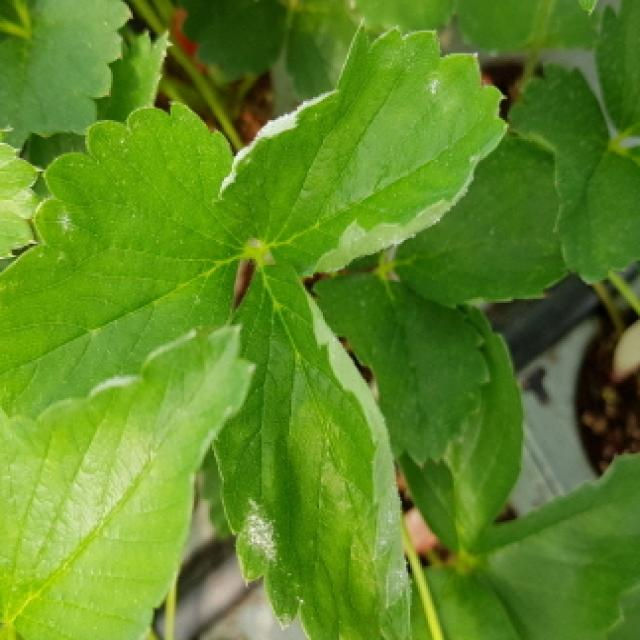Powdery Mildew Leaf: (0, 101, 248, 419), (211, 19, 511, 280), (209, 260, 413, 640)
